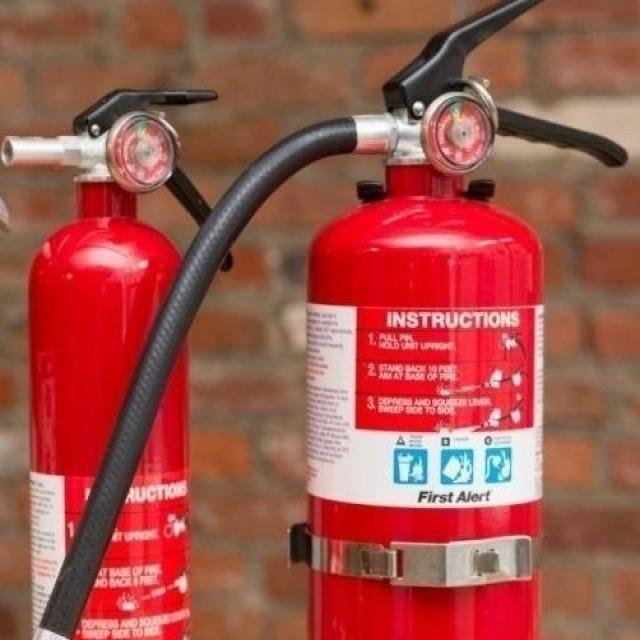fire_extinguisher: (25, 0, 637, 639), (0, 82, 236, 638)
